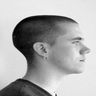ear: (29, 36, 53, 62)
